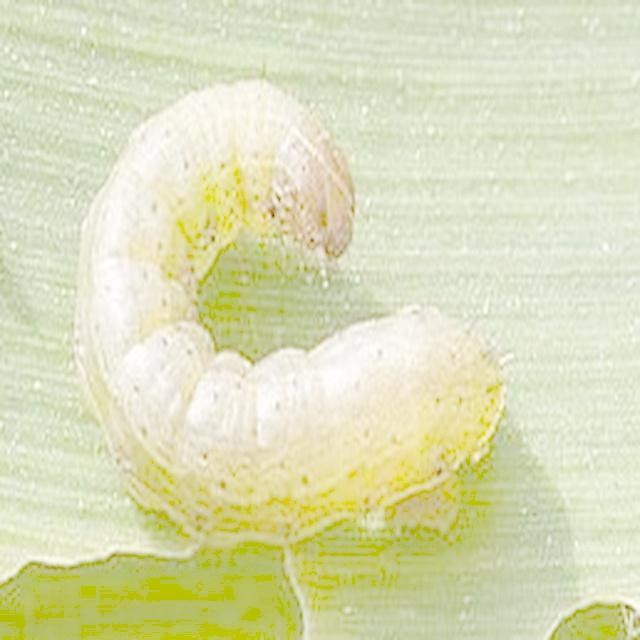worm: (73, 77, 508, 552)
